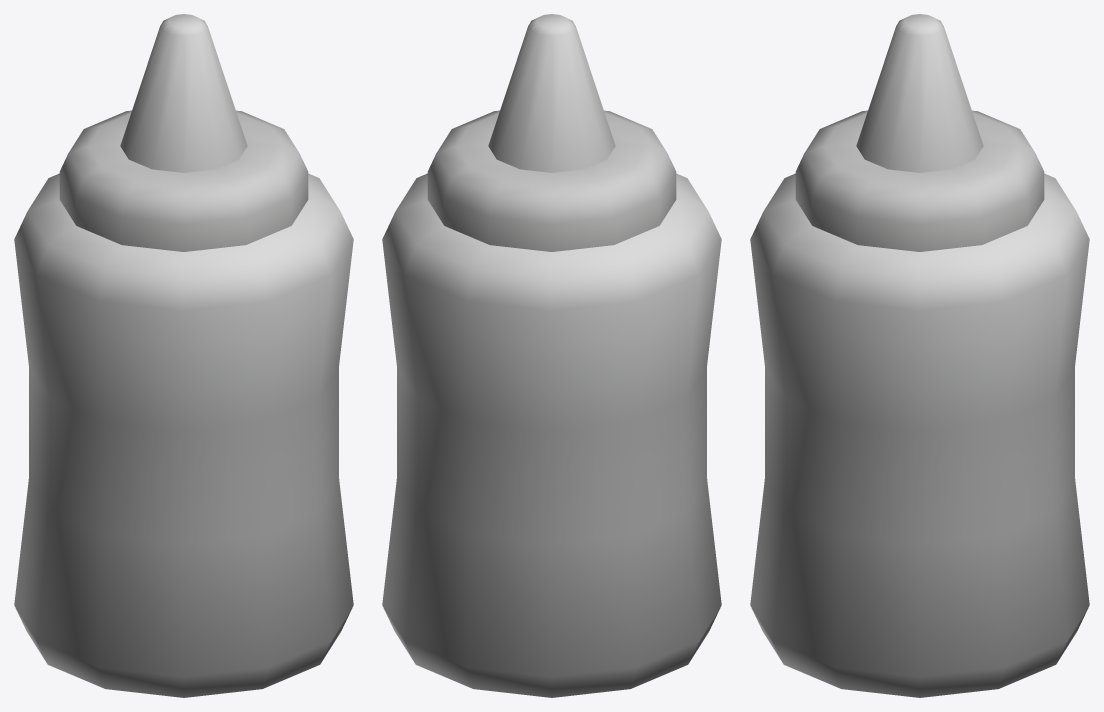
File: Condiment_Mayo_01.fbx
3 renders of one model, left to right at view 1: azimuth 30°, elevation 25°; view 2: azimuth 150°, elevation 25°; view 3: azimuth 270°, elevation 25°, orthographic.
Visible parts, largest first — view 1: Condiment_Mayo_01; view 2: Condiment_Mayo_01; view 3: Condiment_Mayo_01.
Part boxes in pixels (left/top/right/bottom): Condiment_Mayo_01: left=14, top=14, right=353, bottom=697; Condiment_Mayo_01: left=382, top=14, right=721, bottom=697; Condiment_Mayo_01: left=750, top=14, right=1089, bottom=697.
Size of the model in its own units: 23.99 by 48.46 by 23.99.
